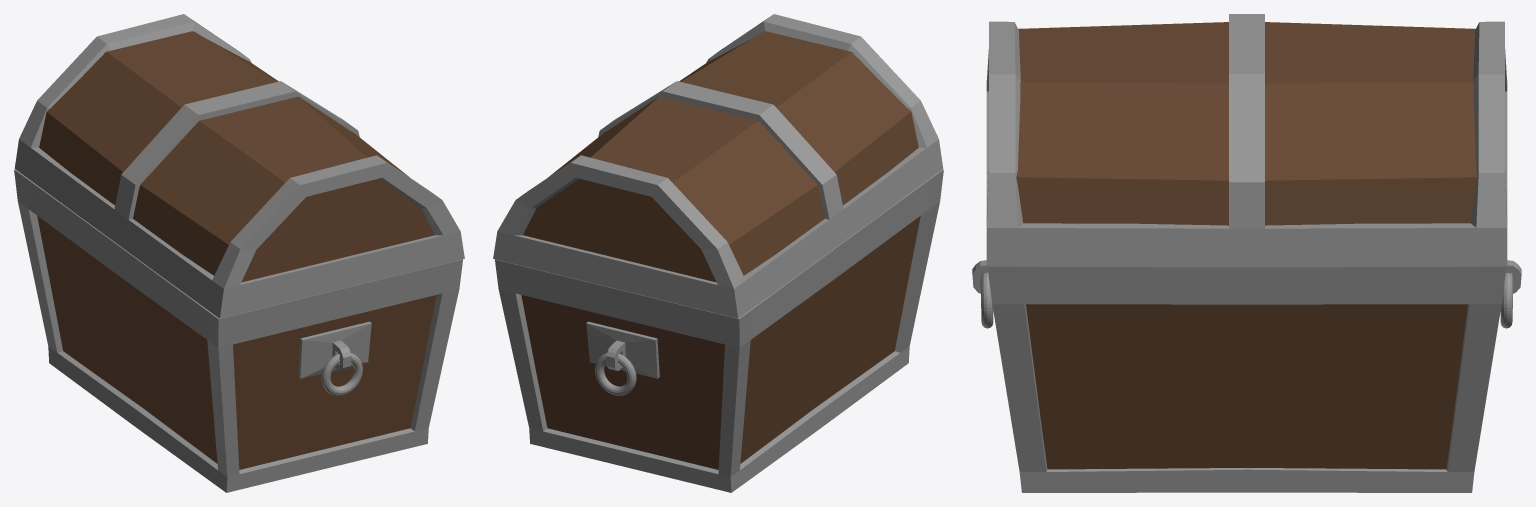
File: chest.fbx
3 views of the same model, side by side, from view 1: azimuth 30°, elevation 25°; view 2: azimuth 150°, elevation 25°; view 3: azimuth 270°, elevation 25° (orthographic). The views are drawn at different scales.
Visible parts, largest first — view 1: Lid, Chest, LidMetal, ChestMetal, Ear; view 2: Lid, Chest, LidMetal, ChestMetal, Ear; view 3: Lid, Chest, LidMetal, ChestMetal, Ear.
Part boxes in pixels (<box>): Lid: <box>39,31,434,282</box>; Chest: <box>37,216,436,469</box>; LidMetal: <box>14,14,464,318</box>; ChestMetal: <box>14,169,462,492</box>; Ear: <box>298,321,371,395</box>; Lid: <box>523,31,918,282</box>; Chest: <box>521,216,920,469</box>; LidMetal: <box>493,14,943,318</box>; ChestMetal: <box>495,169,943,492</box>; Ear: <box>586,321,659,395</box>; Lid: <box>1016,22,1477,225</box>; Chest: <box>1026,304,1467,469</box>; LidMetal: <box>986,14,1507,267</box>; ChestMetal: <box>987,266,1506,492</box>; Ear: <box>972,260,1521,328</box>.
Size of the model in its own units: 207 by 245 by 315.
